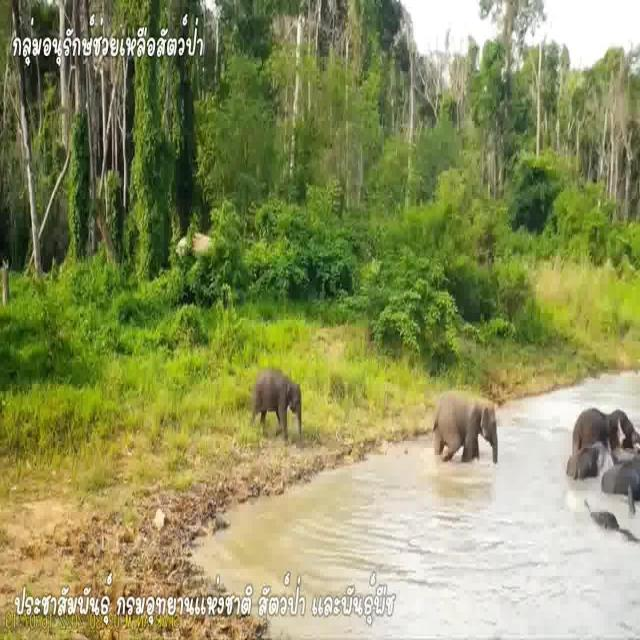Elephant: (432, 382, 498, 460), (249, 356, 305, 425), (576, 401, 634, 451), (601, 454, 640, 504)
